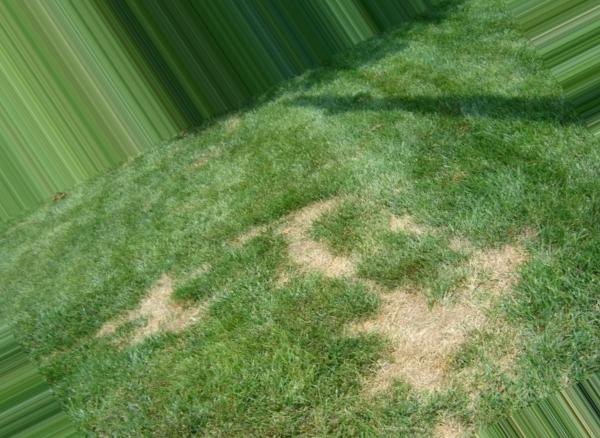patch: (386, 304, 453, 380), (470, 251, 519, 319), (136, 288, 176, 341), (282, 220, 319, 261), (328, 255, 363, 276)
